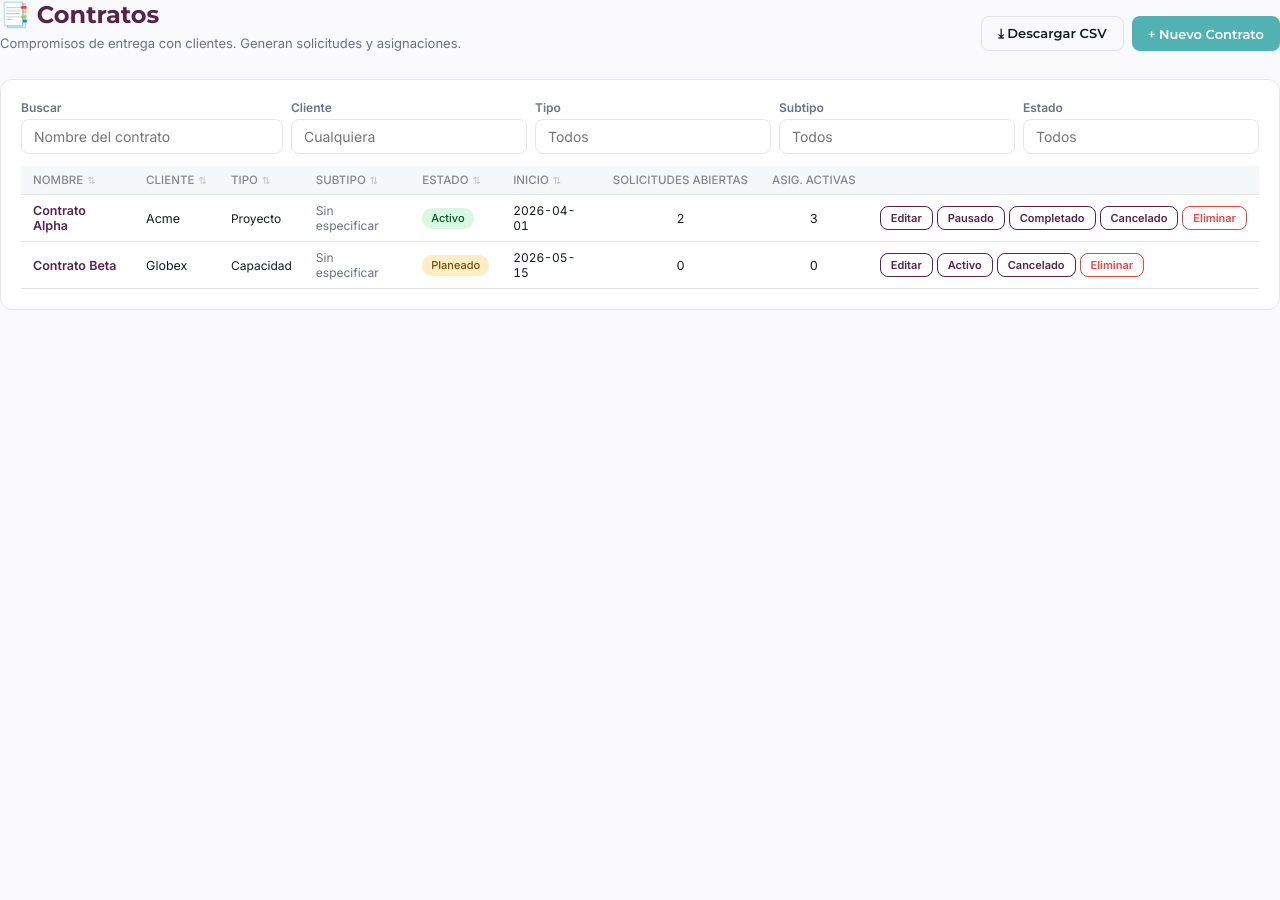
Test case: Contracts module › SPEC subtipo-contrato (Abril 2026) › al elegir Capacity, el dropdown Subtipo muestra exactamente 4 opciones
The width and height of the screenshot is (1280, 900).
Check: the link "Contrato Alpha" is shown, box x1=33 y1=203 x2=86 y2=233
Click the button "+ Nuevo Contrato" at x=1206, y=34, box x1=1132 y1=16 x2=1279 y2=51
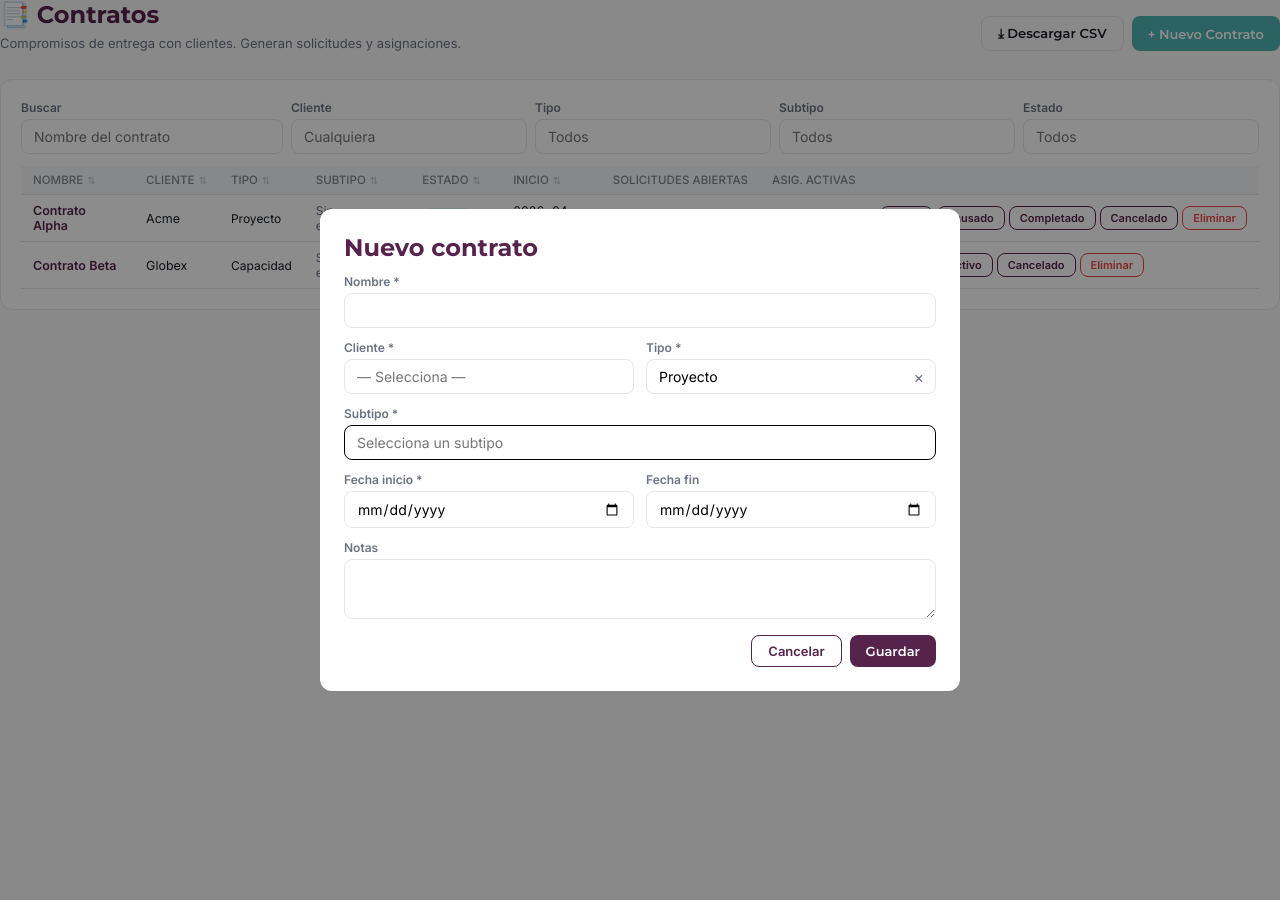
Click the dropdown named "Tipo" at x=791, y=376, box x1=646 y1=359 x2=936 y2=394
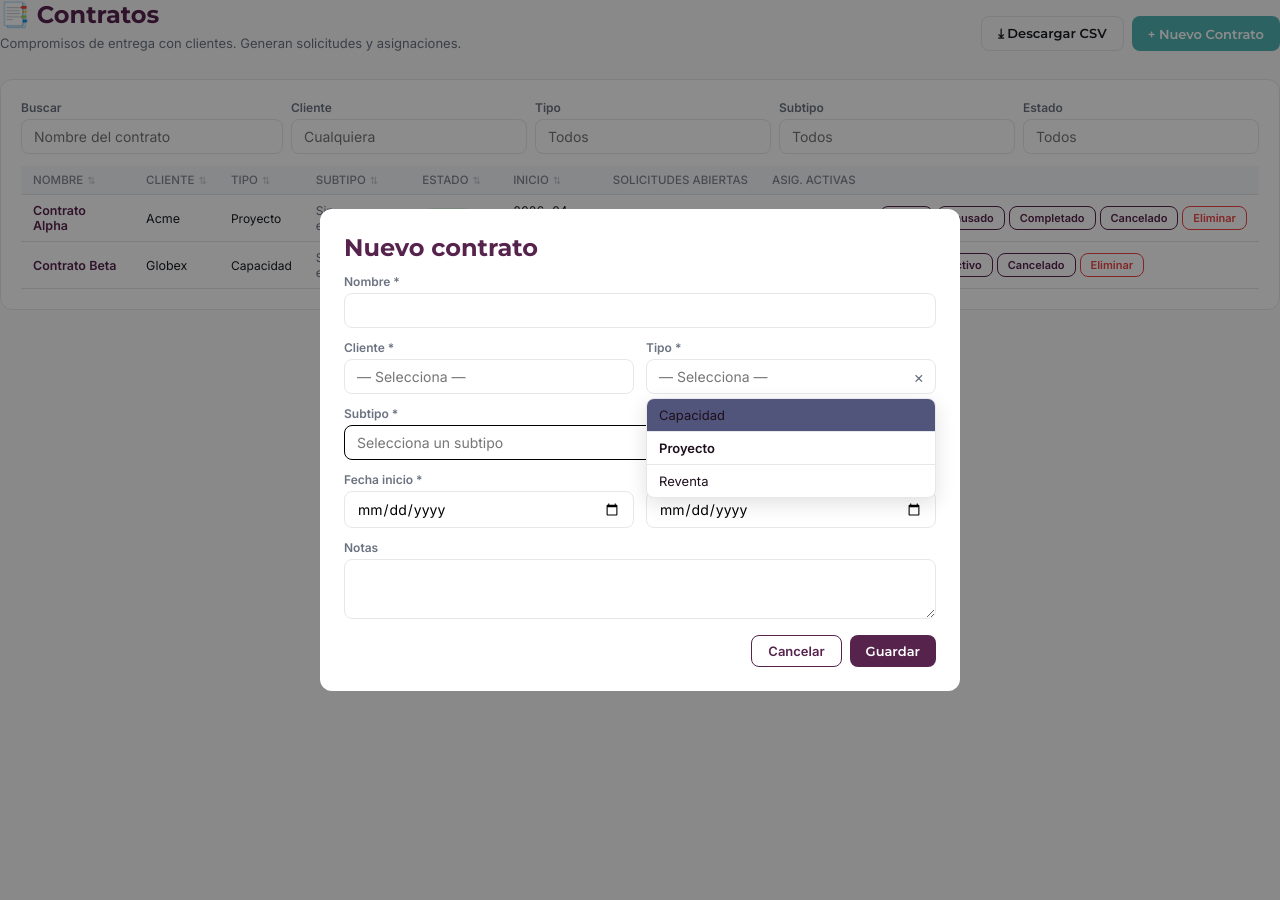
Press the mouse on the option "Capacidad" at x=692, y=415, box x1=647 y1=399 x2=935 y2=431
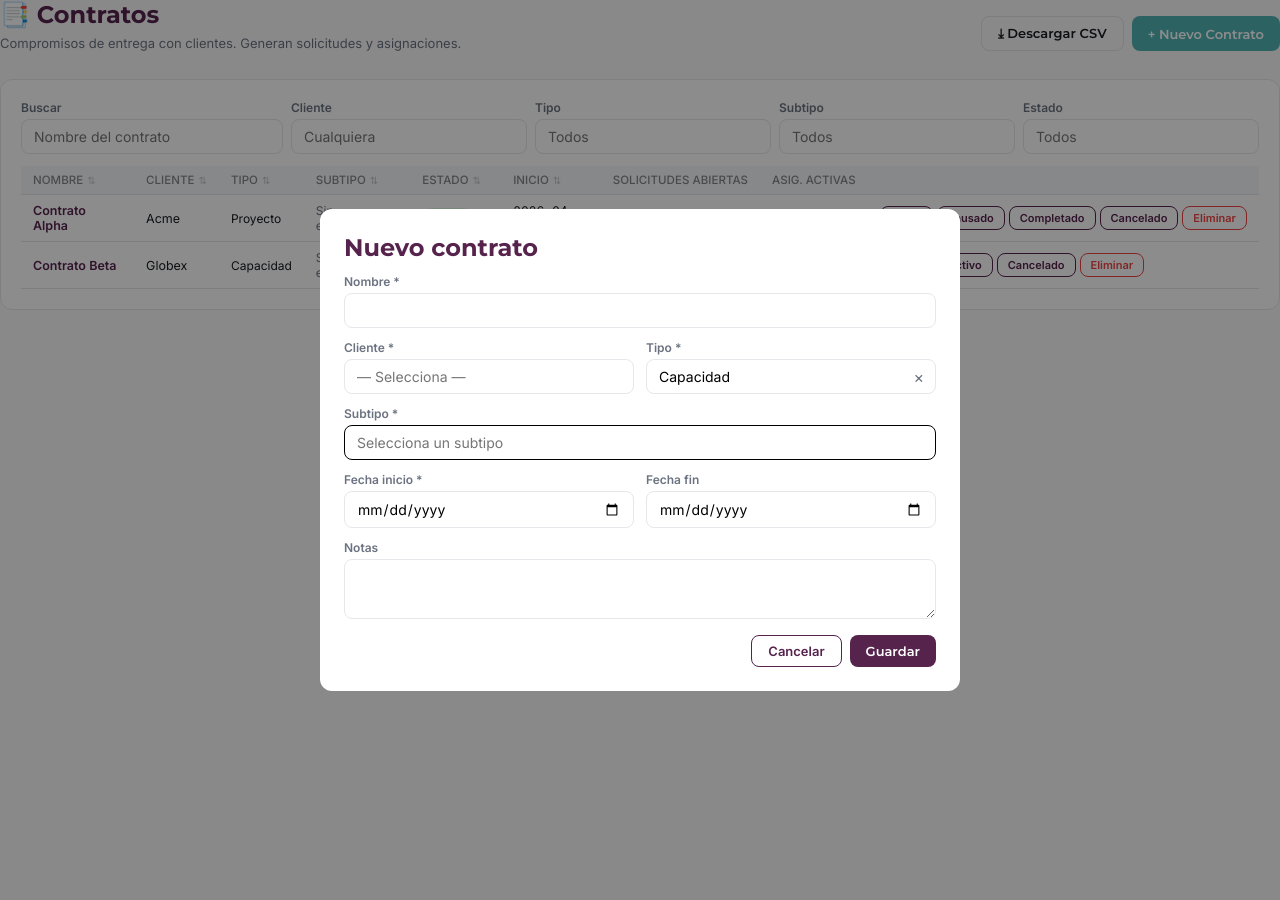
Click the dropdown labelled "subtipo" at x=640, y=442, box x1=344 y1=425 x2=936 y2=460
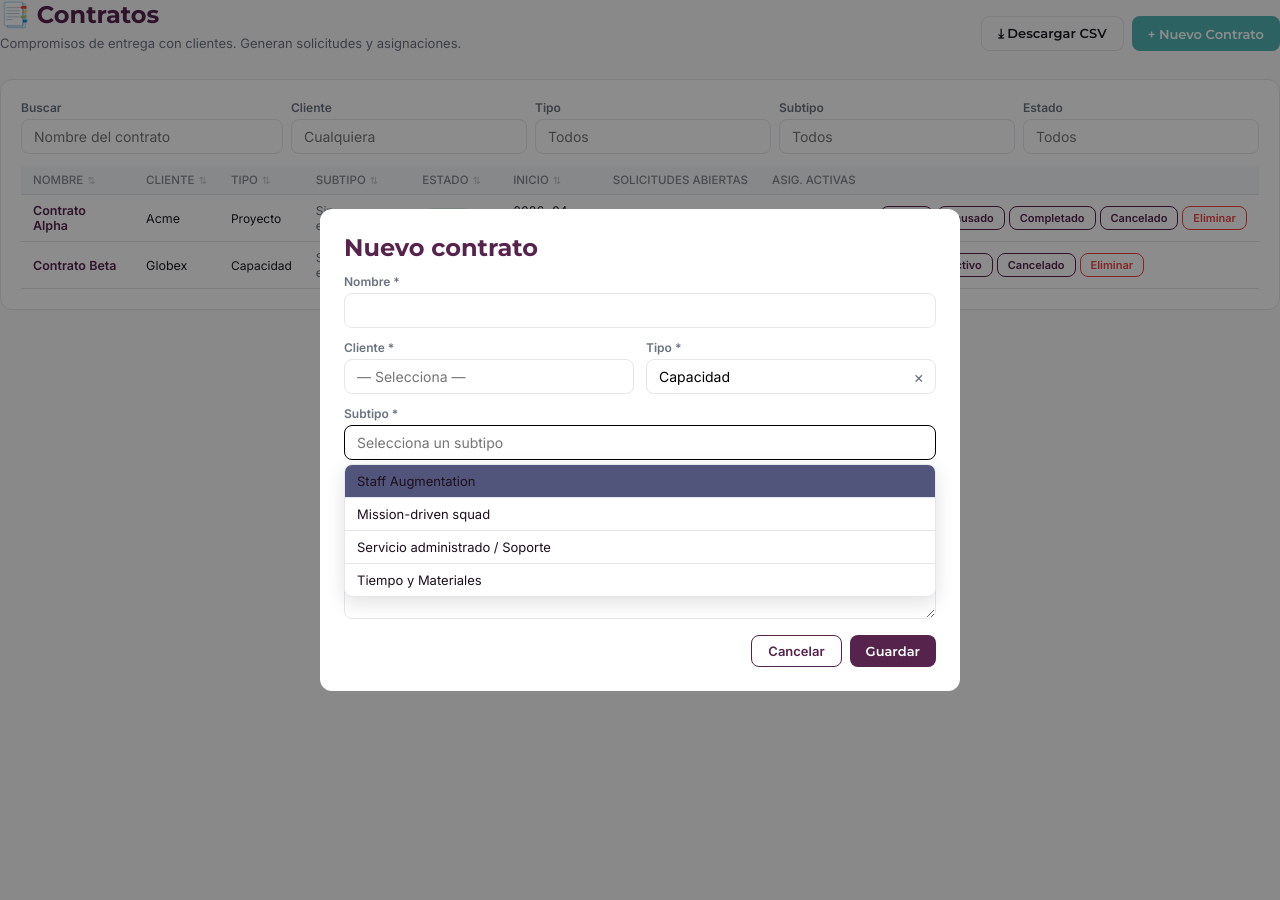
Check: the list is shown, box x1=344 y1=464 x2=936 y2=597
Check: the number of options is 4, box x1=345 y1=465 x2=935 y2=497; x1=345 y1=497 x2=935 y2=530; x1=345 y1=530 x2=935 y2=563; x1=345 y1=563 x2=935 y2=596
Check: the list shows "Staff Augmentation", box x1=357 y1=473 x2=476 y2=489
